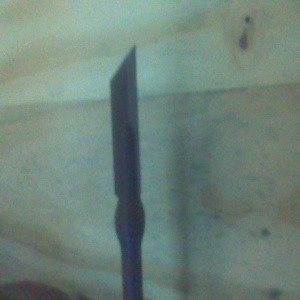cutter: (108, 43, 146, 300)
